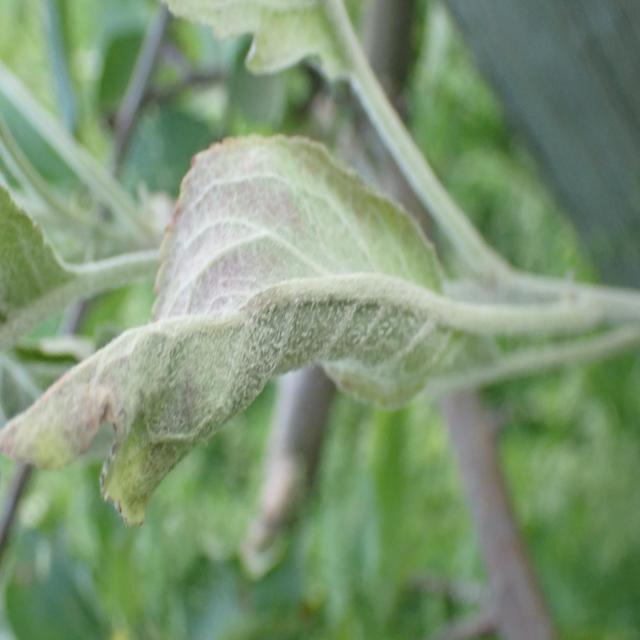Powdery_mildew: (0, 124, 541, 529), (0, 164, 157, 362)
